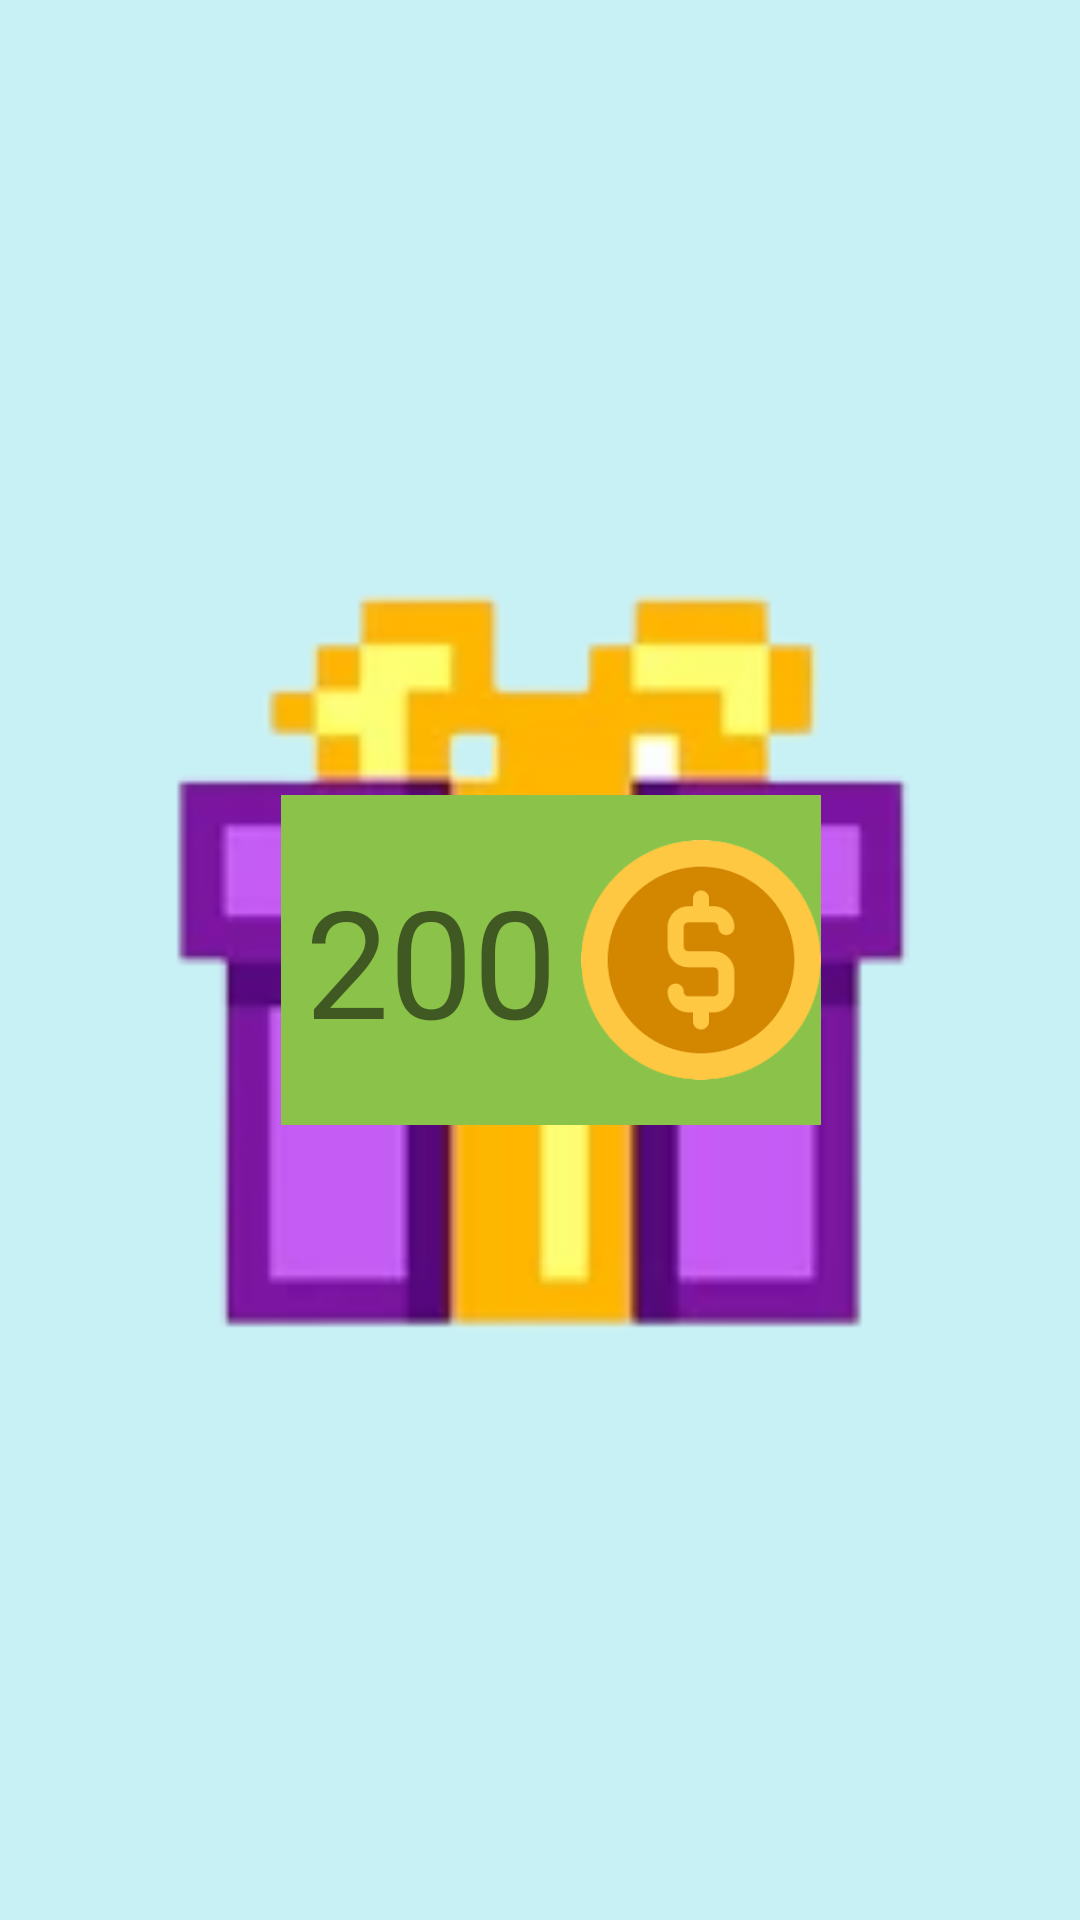

Where to tap for icons on this 1080px x 1920px app screen, as point (x, y):
coin: point (701, 960)
